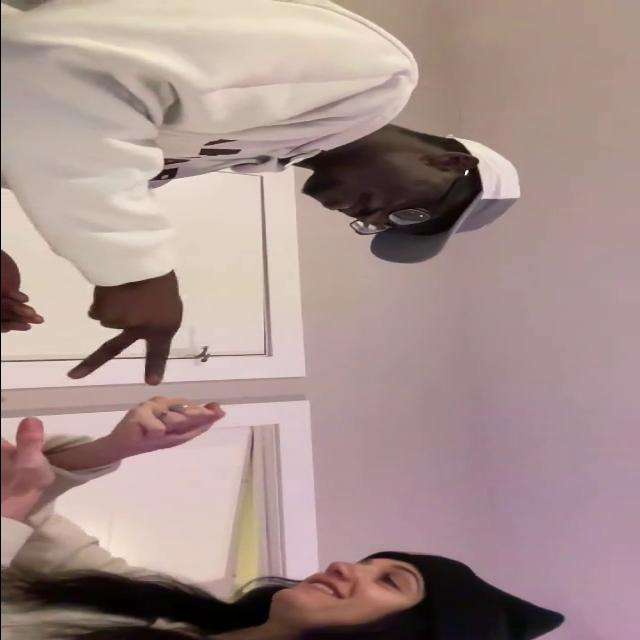Rock: (106, 396, 226, 450)
Scissors: (64, 272, 182, 386)
